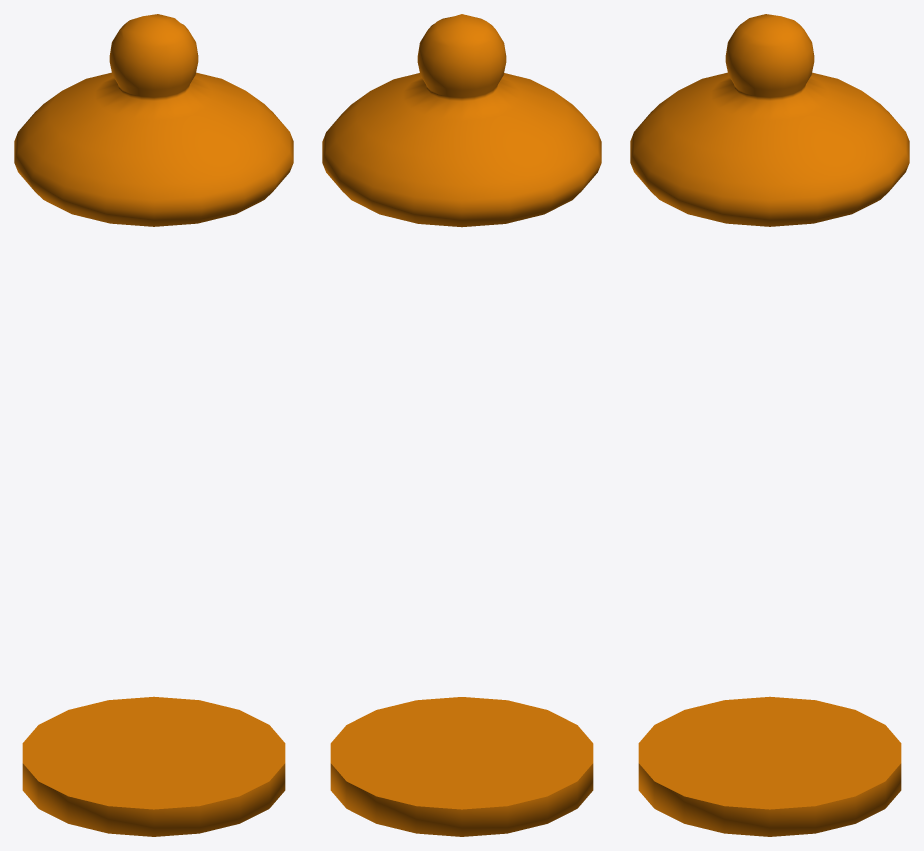
File: wood.fbx
The picture shows the model from 3 angles, left to right: view 1: azimuth 30°, elevation 25°; view 2: azimuth 150°, elevation 25°; view 3: azimuth 270°, elevation 25°; orthographic projection.
Visible parts, largest first — view 1: Cylinder.002, Cylinder; view 2: Cylinder.002, Cylinder; view 3: Cylinder.002, Cylinder.
Boxes of the visible parts, bbox=[...] form: Cylinder.002: bbox=[14, 14, 293, 226]; Cylinder: bbox=[22, 696, 285, 836]; Cylinder.002: bbox=[322, 14, 601, 227]; Cylinder: bbox=[330, 697, 593, 836]; Cylinder.002: bbox=[630, 14, 909, 226]; Cylinder: bbox=[638, 696, 901, 836].
Size of the model in its own units: 17.93 by 53.08 by 17.65.
